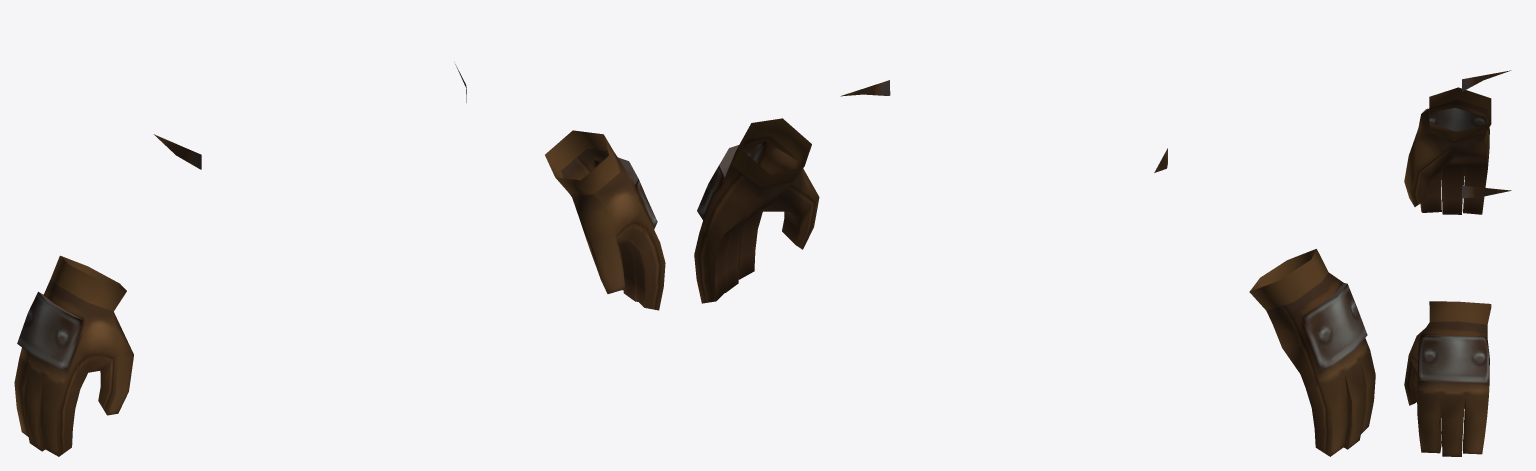
File: hum_heavy_b_6d2dfa9e.glb
The picture shows the model from 3 angles, left to right: view 1: azimuth 30°, elevation 25°; view 2: azimuth 150°, elevation 25°; view 3: azimuth 270°, elevation 25°; orthographic projection. The views are drawn at different scales.
Size of the model in its own units: 1.7 by 0.7708 by 0.3409.
Materials: 1 (1 with a texture image).
